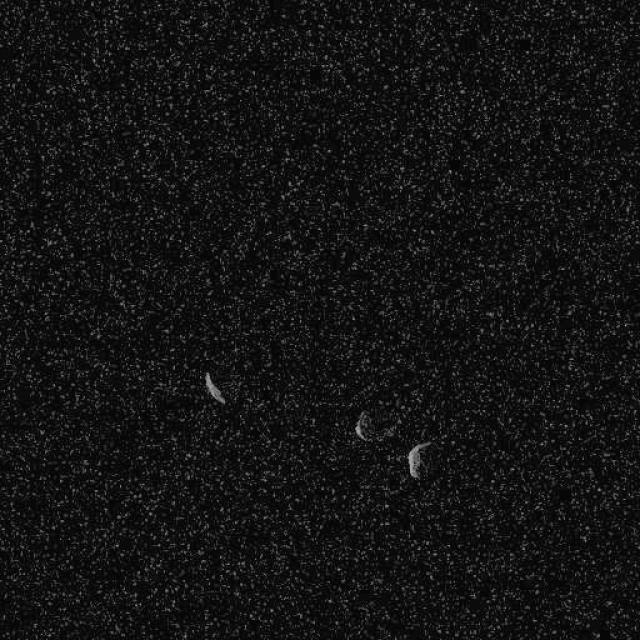D2: (406, 440, 435, 480), (203, 370, 225, 404), (352, 410, 372, 441)
